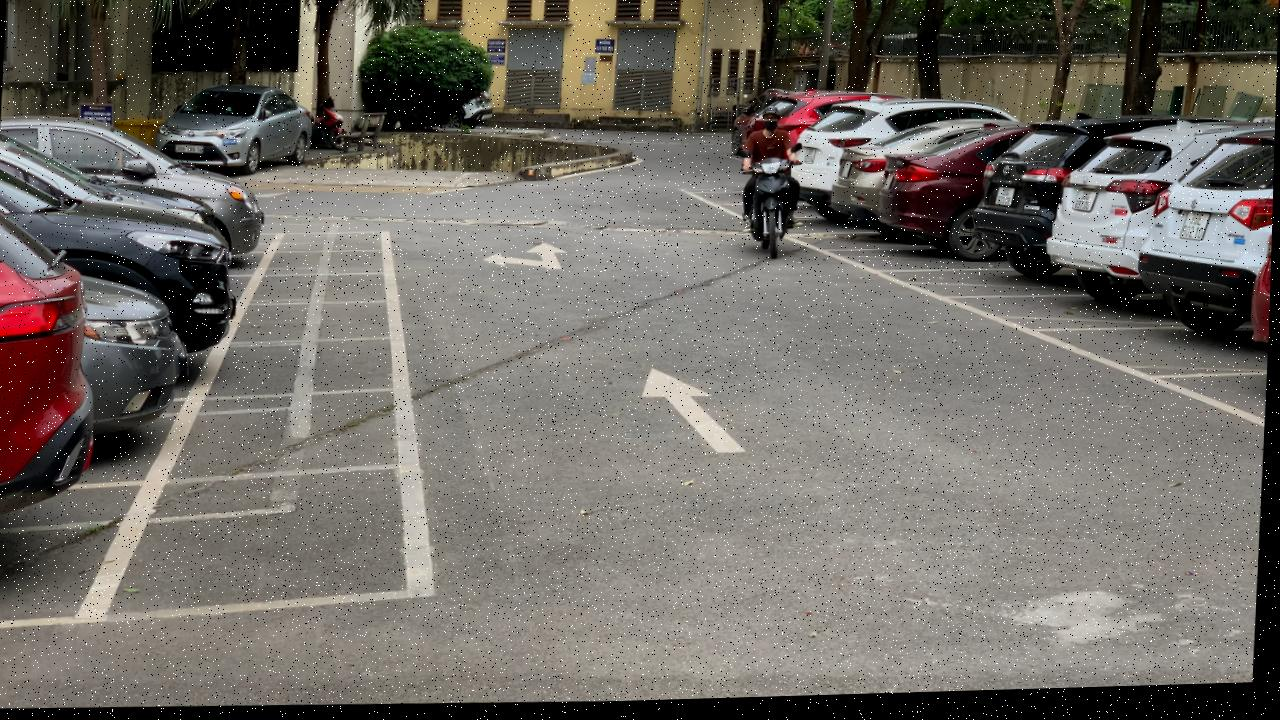helmet: (763, 111, 782, 123)
motorcyclist: (735, 109, 809, 264)
